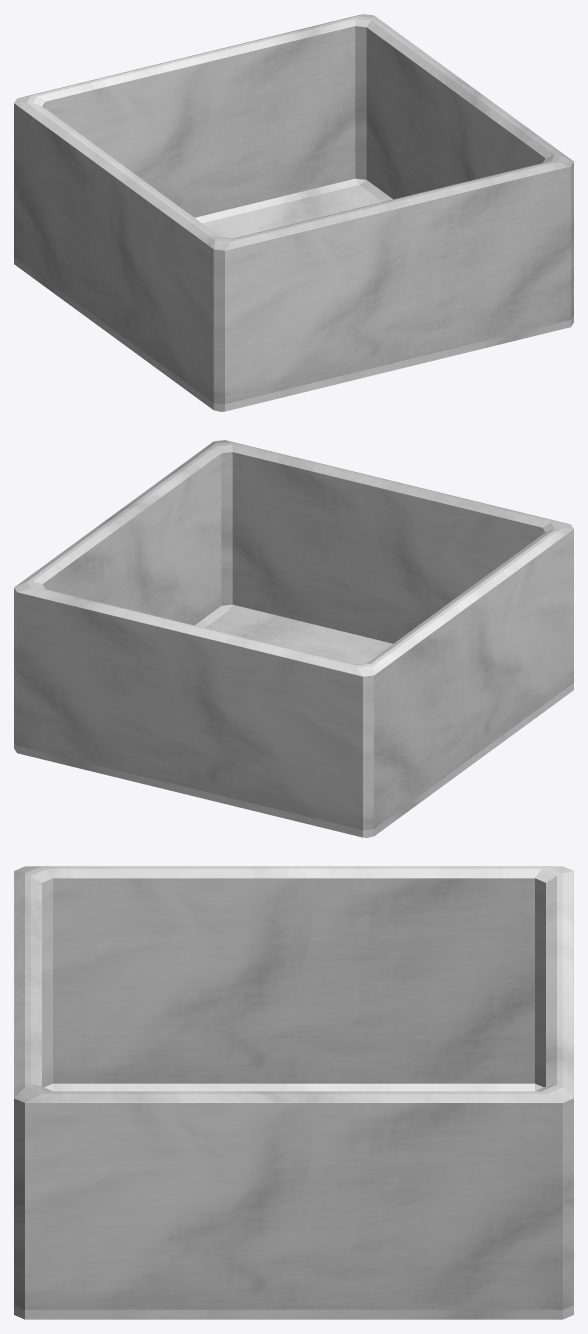
Rendered from cargobox.dae.
The picture shows the model from 3 angles, top to bottom: view 1: azimuth 30°, elevation 25°; view 2: azimuth 150°, elevation 25°; view 3: azimuth 270°, elevation 25°; orthographic projection. The views are drawn at different scales.
Visible parts, largest first — view 1: Cube; view 2: Cube; view 3: Cube.
Boxes of the visible parts, bbox=[...] form: Cube: bbox=[14, 14, 573, 411]; Cube: bbox=[14, 440, 573, 837]; Cube: bbox=[14, 866, 573, 1319].
Size of the model in its own units: 0.45 by 0.45 by 0.2.
